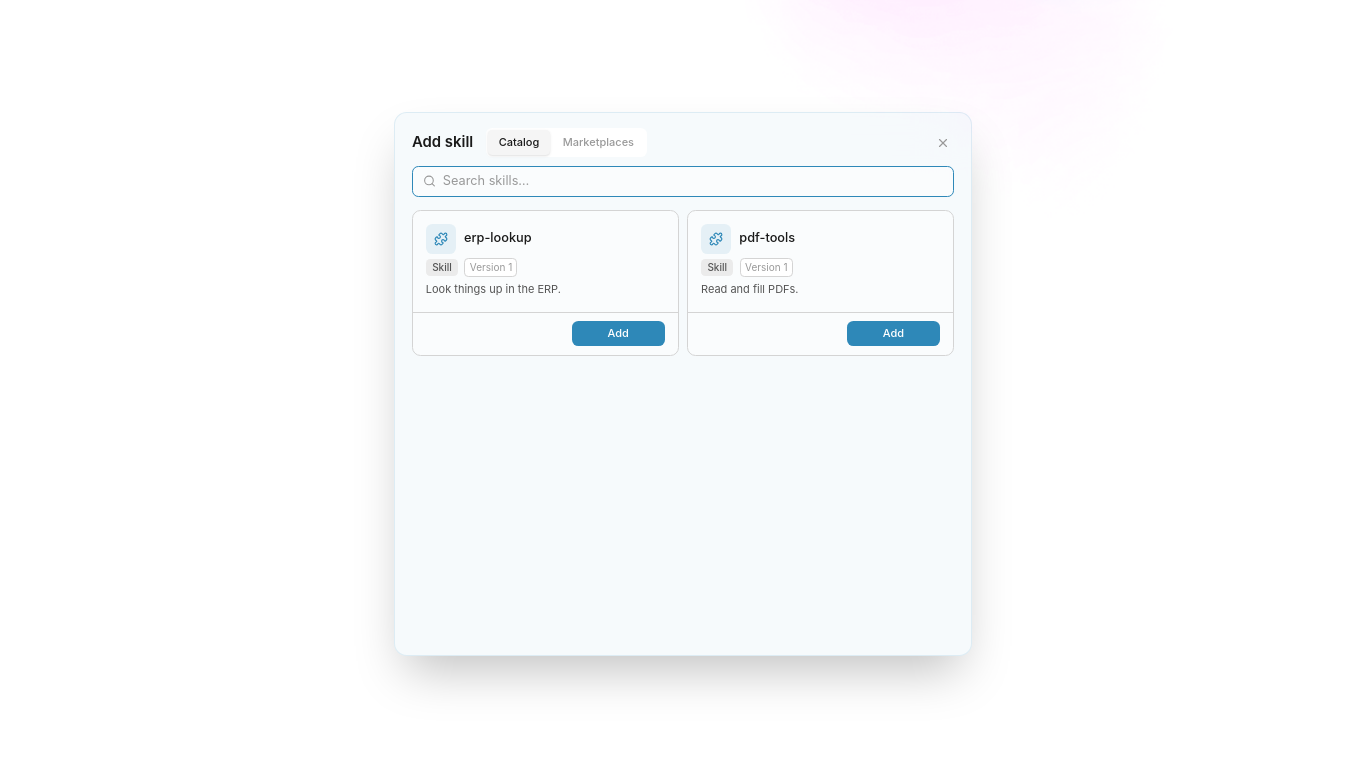
Test: SkillAddModal › lists the catalog’s skills only, and pins one into this agent, staying open
Expected: the text "erp-lookup" is shown, [464, 230, 532, 245]
Expected: the text "pdf-tools" is shown, [739, 230, 795, 245]
What coordinates should you click on to do the following:
click the button with aria-label "Add erp-lookup"
I would click on:
 (618, 334)
Its box is [572, 321, 665, 346].
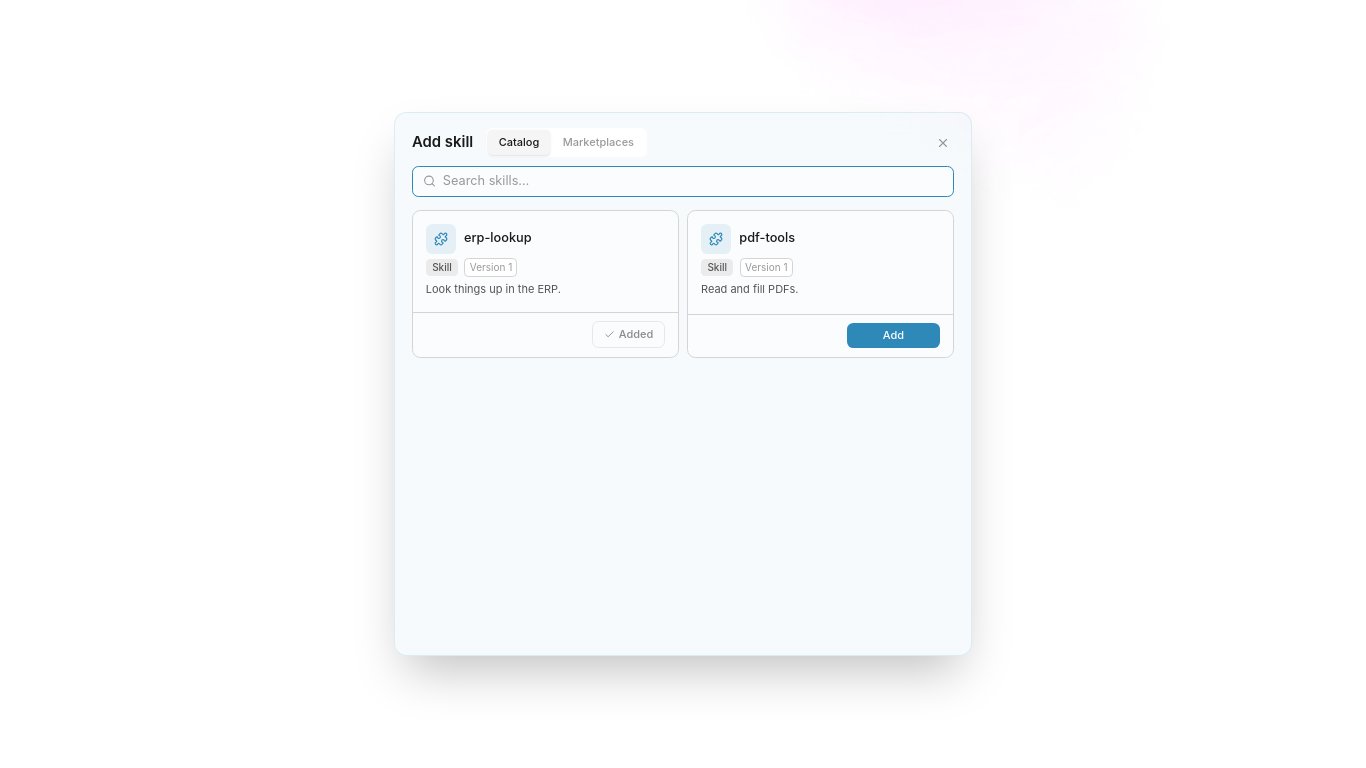
Expected: the dialog "Add skill" is shown, [394, 112, 972, 656]
Expected: the button with aria-label "erp-lookup added" is shown, [592, 321, 665, 348]
